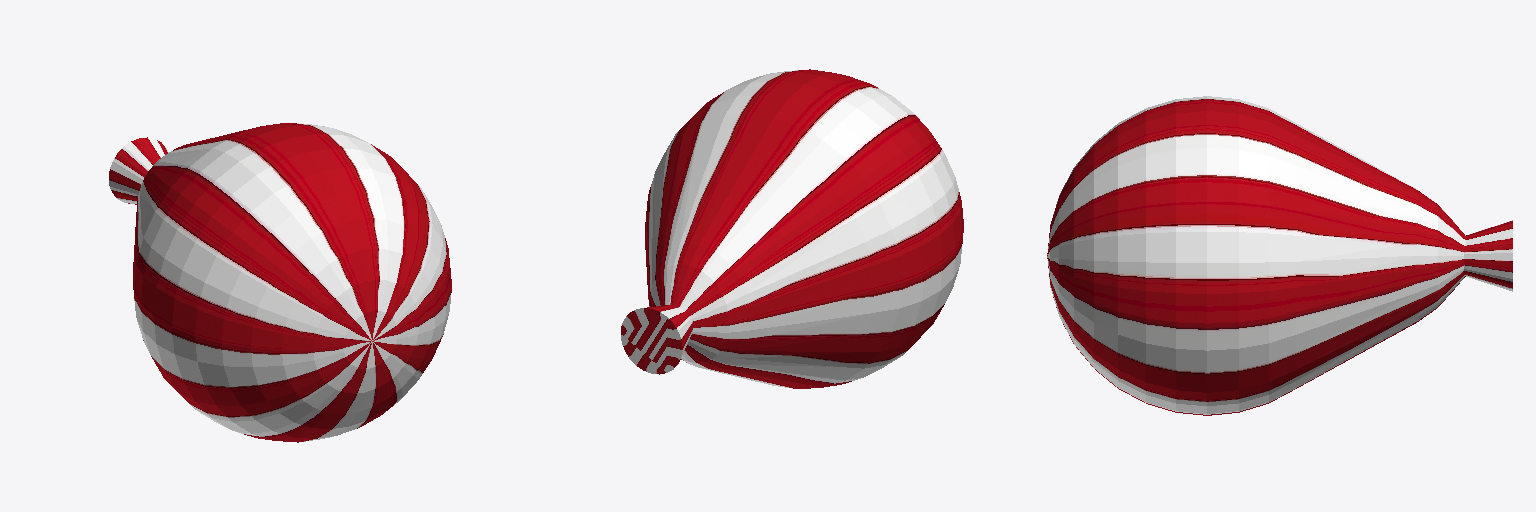
3 renders of one model, left to right at view 1: azimuth 30°, elevation 25°; view 2: azimuth 150°, elevation 25°; view 3: azimuth 270°, elevation 25°, orthographic.
Visible parts, largest first — view 1: Sphere001; view 2: Sphere001; view 3: Sphere001.
Boxes of the visible parts, x1=… form: Sphere001: x1=109, y1=123, x2=451, y2=442; Sphere001: x1=621, y1=69, x2=963, y2=388; Sphere001: x1=1047, y1=96, x2=1512, y2=415.
Size of the model in its own units: 10.54 by 10.54 by 15.33.
1 materials, 1 textured.